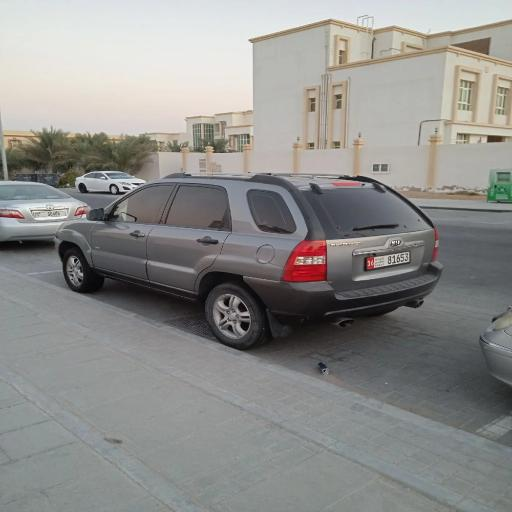license-plates: (366, 251, 410, 269), (33, 211, 66, 217)
